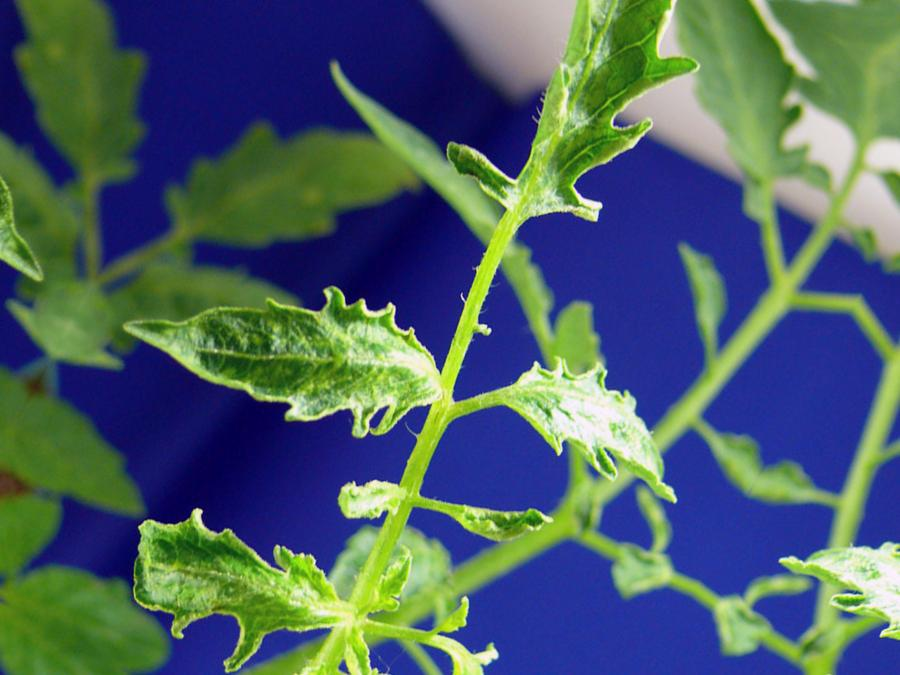Tomato leaf mosaic virus: (96, 175, 478, 514), (428, 0, 731, 275), (79, 435, 381, 675), (479, 318, 730, 532)
